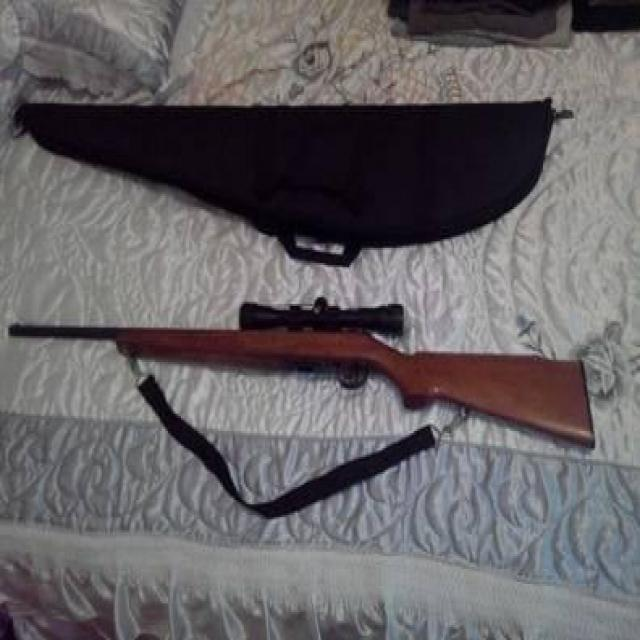weapon: (6, 295, 596, 453)
